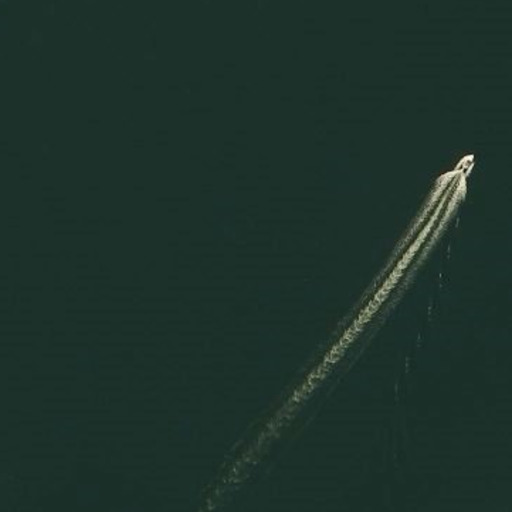ship: (453, 150, 476, 179)
